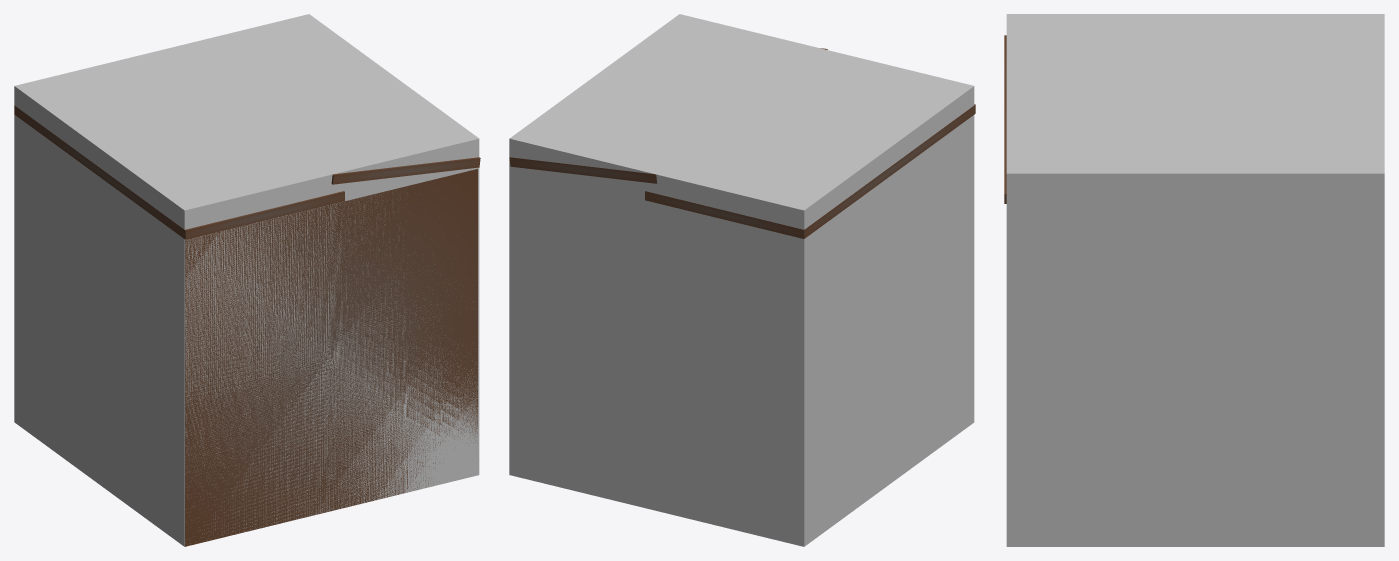
Rendered from SM_CardboardBox_02.fbx.
3 renders of one model, left to right at view 1: azimuth 30°, elevation 25°; view 2: azimuth 150°, elevation 25°; view 3: azimuth 270°, elevation 25°, orthographic. The views are drawn at different scales.
Parts seen in each view (by area): view 1: SM_CardboardBox_02_ConvexHulls, SM_CardboardBox_02; view 2: SM_CardboardBox_02_ConvexHulls, SM_CardboardBox_02; view 3: SM_CardboardBox_02_ConvexHulls, SM_CardboardBox_02.
Part boxes in pixels (box(x1,y1,x2,y2)): SM_CardboardBox_02_ConvexHulls: box(14, 14, 479, 546); SM_CardboardBox_02: box(14, 105, 480, 546); SM_CardboardBox_02_ConvexHulls: box(509, 14, 974, 546); SM_CardboardBox_02: box(509, 48, 975, 238); SM_CardboardBox_02_ConvexHulls: box(1006, 14, 1384, 546); SM_CardboardBox_02: box(1004, 35, 1006, 203).
Bounding box in the file's own units: 49.94 × 50.29 × 54.46.
2 materials, 1 textured.
